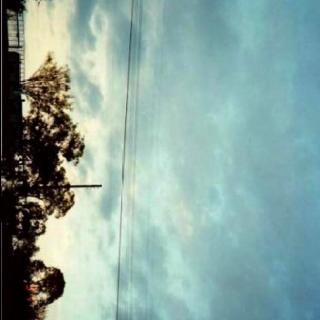Stratocumulus: (67, 0, 320, 320)
